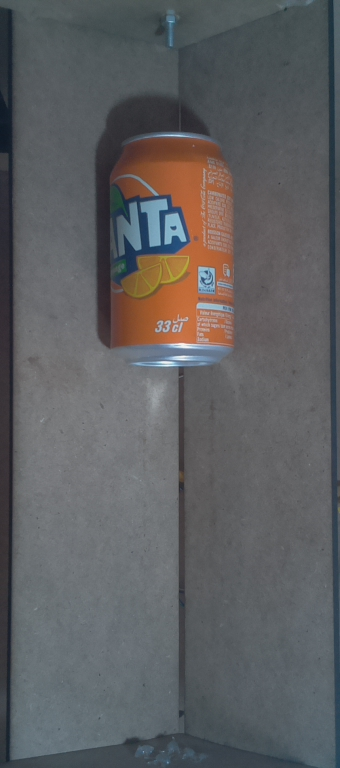Canette: (98, 123, 246, 373)
